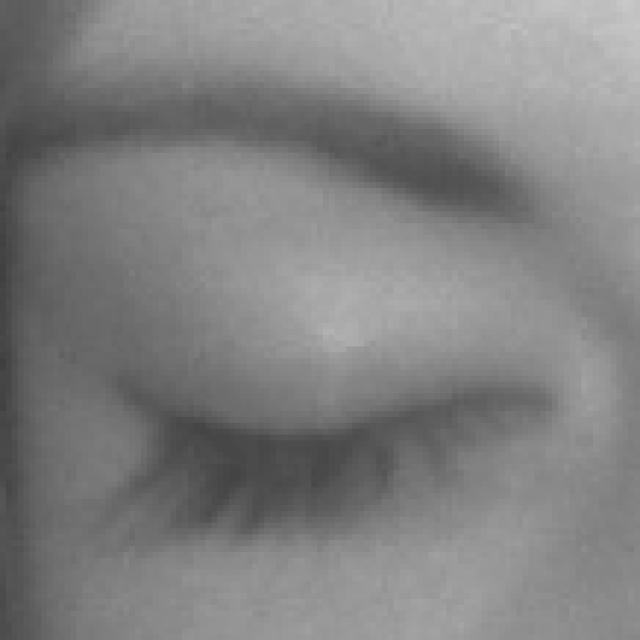Eyeclosed: (102, 238, 550, 640)
